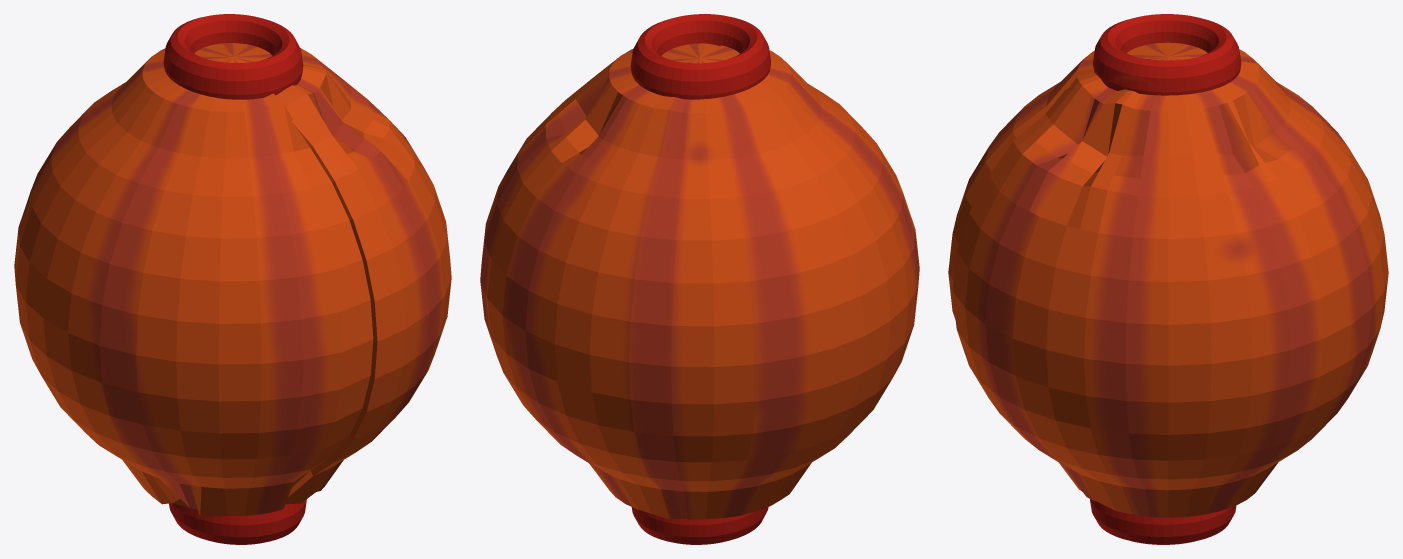
Rendered from lanternTaiwan.glb.
3 views of the same model, side by side, from view 1: azimuth 30°, elevation 25°; view 2: azimuth 150°, elevation 25°; view 3: azimuth 270°, elevation 25° (orthographic).
Parts seen in each view (by area): view 1: Sphere, Torus, Torus.001; view 2: Sphere, Torus, Torus.001; view 3: Sphere, Torus, Torus.001.
Part boxes in pixels (bbox=[...]): Sphere: bbox=[14, 43, 451, 516]; Torus: bbox=[163, 14, 303, 99]; Torus.001: bbox=[169, 499, 306, 544]; Sphere: bbox=[480, 43, 919, 519]; Torus: bbox=[630, 14, 770, 99]; Torus.001: bbox=[631, 507, 768, 544]; Sphere: bbox=[948, 42, 1388, 517]; Torus: bbox=[1093, 14, 1241, 95]; Torus.001: bbox=[1090, 499, 1236, 544].
Size of the model in its own units: 2 by 2.42 by 2.
Materials: 2 (2 with a texture image).
